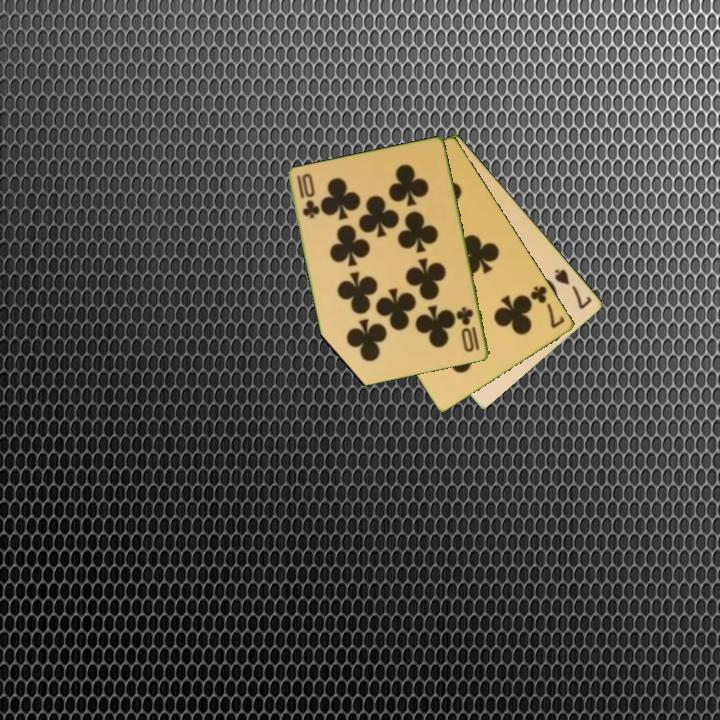10c: (454, 303, 483, 355), (293, 172, 322, 222)
7c: (527, 282, 568, 332)
7s: (551, 265, 595, 312)
